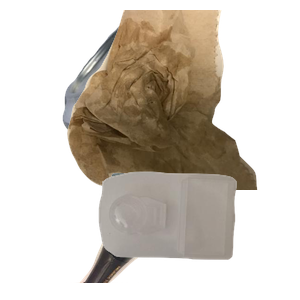glass: (66, 120, 279, 300)
metal: (60, 10, 300, 190)
plastic: (96, 169, 300, 300)
trash: (65, 10, 300, 190)
